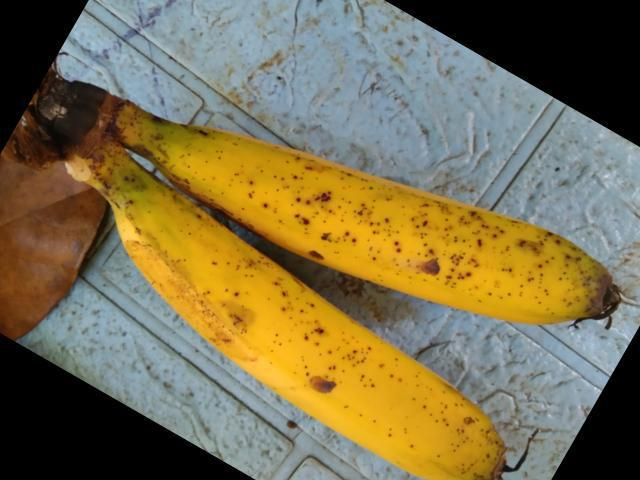ripe: (107, 219, 533, 479), (163, 113, 639, 335)
